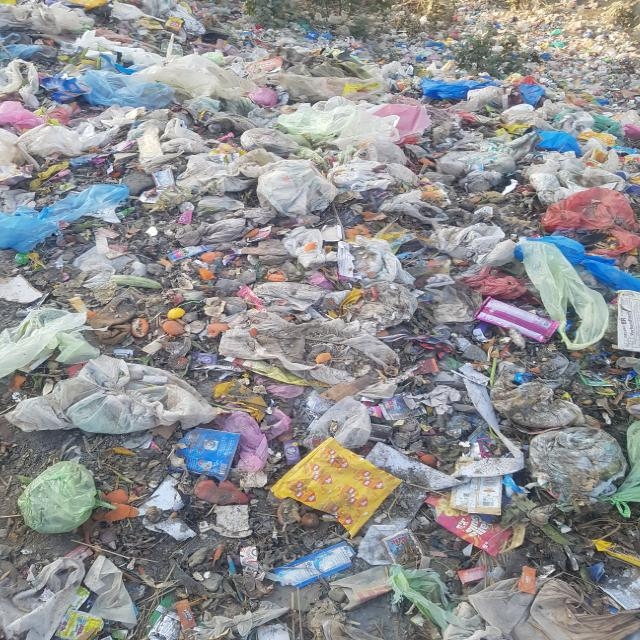electronic: (269, 436, 404, 538), (427, 489, 523, 558), (264, 541, 356, 588), (472, 296, 560, 344), (174, 427, 242, 482), (522, 560, 546, 601)
general: (25, 348, 229, 432), (526, 228, 620, 356), (0, 185, 148, 250), (17, 461, 111, 538), (253, 164, 349, 224)
